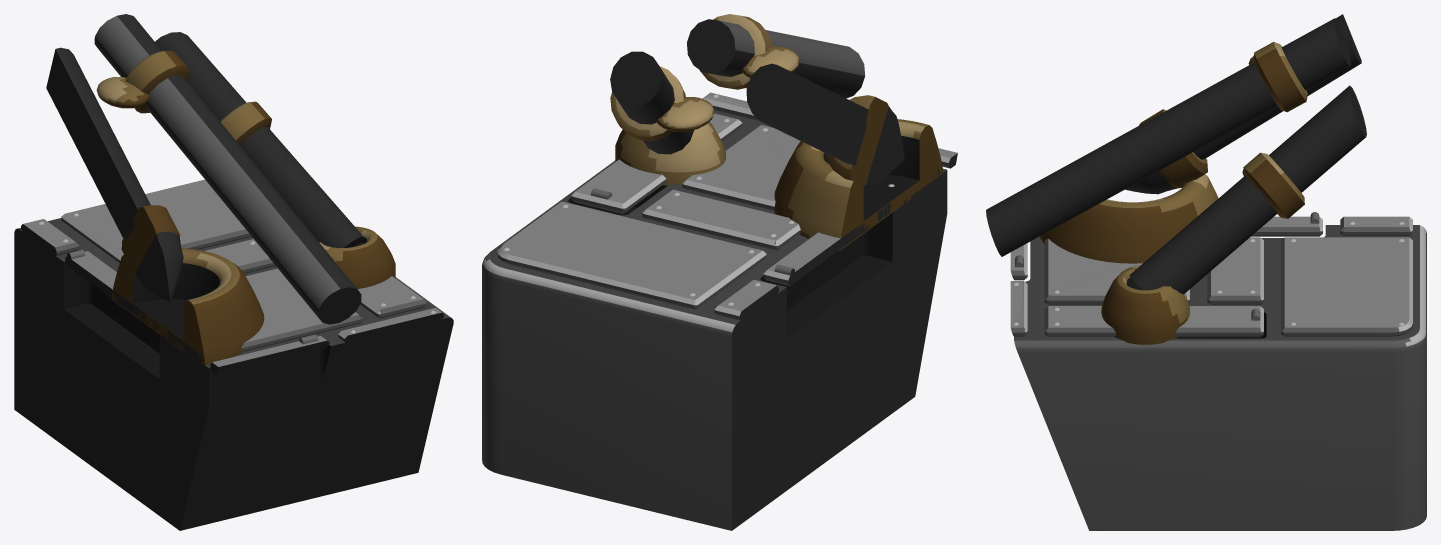
Rendered from asteroid_rig_tr_79.glb.
3 views of the same model, side by side, from view 1: azimuth 30°, elevation 25°; view 2: azimuth 150°, elevation 25°; view 3: azimuth 270°, elevation 25° (orthographic). The views are drawn at different scales.
Visible parts, largest first — view 1: asteroid_rig_tr_79; view 2: asteroid_rig_tr_79; view 3: asteroid_rig_tr_79.
Boxes of the visible parts, x1,y1,x2,y2 form: asteroid_rig_tr_79: (14, 14, 453, 530); asteroid_rig_tr_79: (482, 14, 957, 530); asteroid_rig_tr_79: (986, 14, 1426, 530).
Size of the model in its own units: 19 by 31.48 by 29.84.
